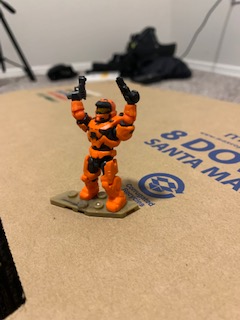pistol: (113, 75, 141, 106), (65, 74, 90, 105)
spartan: (67, 91, 140, 214)
up: (68, 91, 139, 150)
